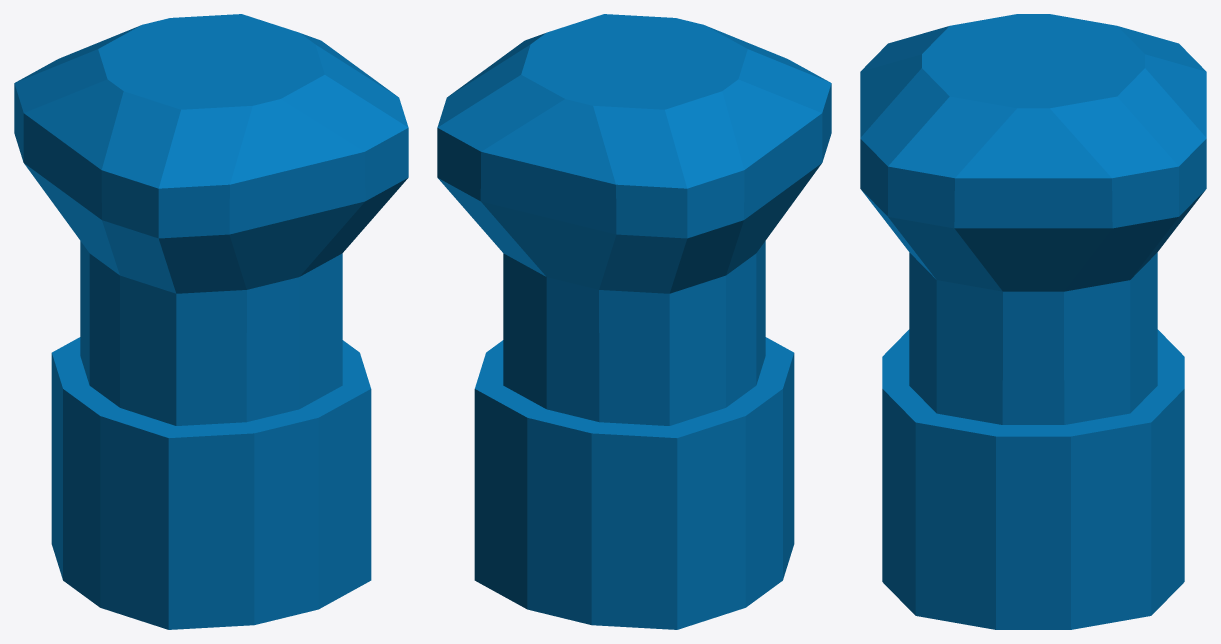
Rendered from SM_pillar_01.glb.
The picture shows the model from 3 angles, left to right: view 1: azimuth 30°, elevation 25°; view 2: azimuth 150°, elevation 25°; view 3: azimuth 270°, elevation 25°; orthographic projection.
Parts seen in each view (by area): view 1: SM_pillar_01; view 2: SM_pillar_01; view 3: SM_pillar_01.
Part boxes in pixels (left/top/right/bottom): SM_pillar_01: left=14, top=14, right=408, bottom=629; SM_pillar_01: left=437, top=14, right=831, bottom=629; SM_pillar_01: left=860, top=14, right=1206, bottom=629.
Bounding box in the file's own units: 0.2944 × 0.4732 × 0.2944.
Materials: 1 (1 with a texture image).
